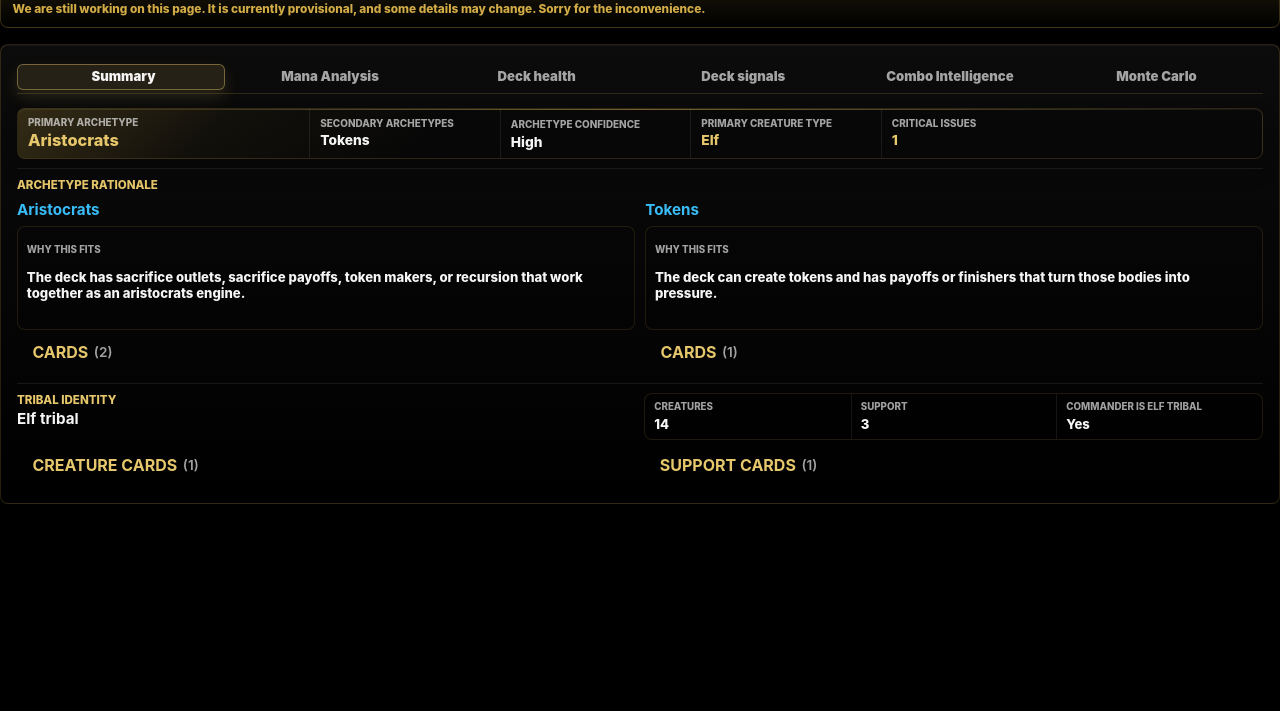
Test: DeckAdvancedAnalysisPageComponent › renders role quality breakdown with functional role labels
This screenshot has width=1280, height=711.
Click the tab "Deck signals" at (743, 77), box top-left (640, 64), bottom-right (847, 90)
(page scrolled)
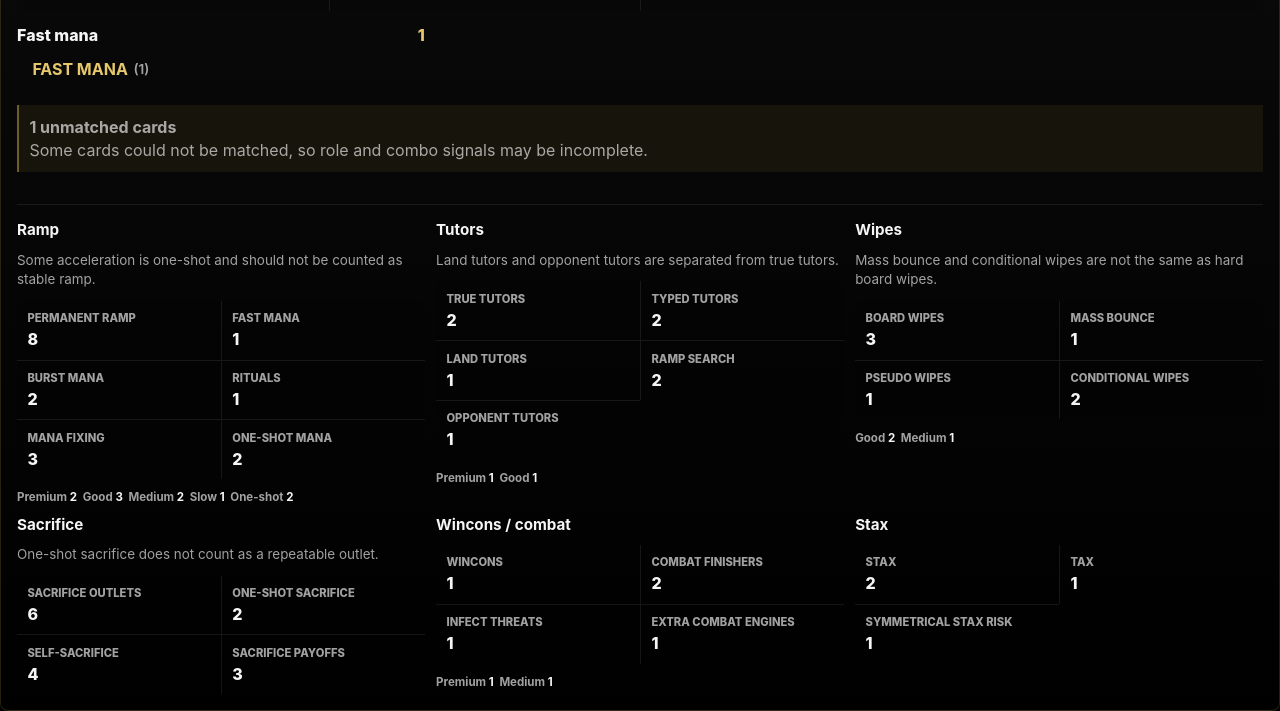
Expected: the text "Fast mana" is shown, top-left (17, 25), bottom-right (98, 45)
Expected: the text "Burst mana" is shown, top-left (27, 371), bottom-right (104, 385)
Expected: the text "Rituals" is shown, top-left (232, 371), bottom-right (281, 385)
